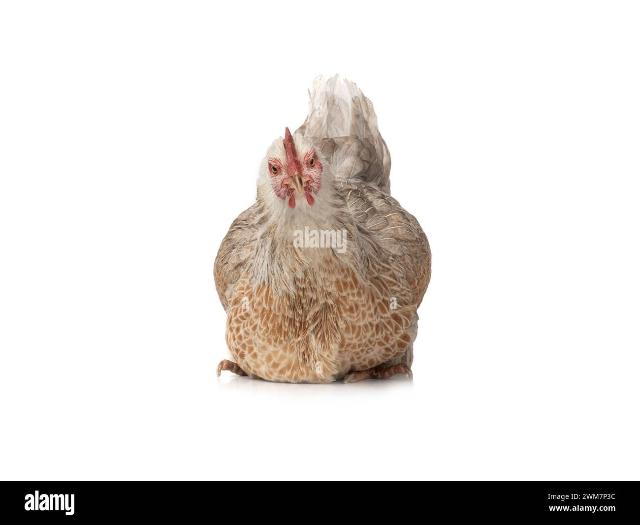Chicken: (210, 72, 434, 386)
